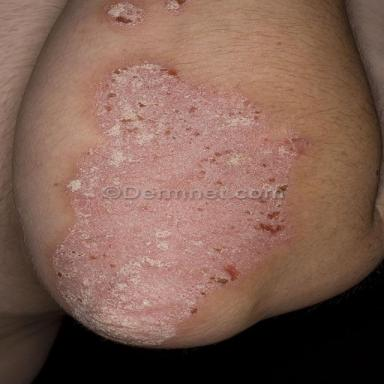Psoriasis: (51, 62, 309, 346), (101, 0, 145, 28), (163, 0, 192, 15)
